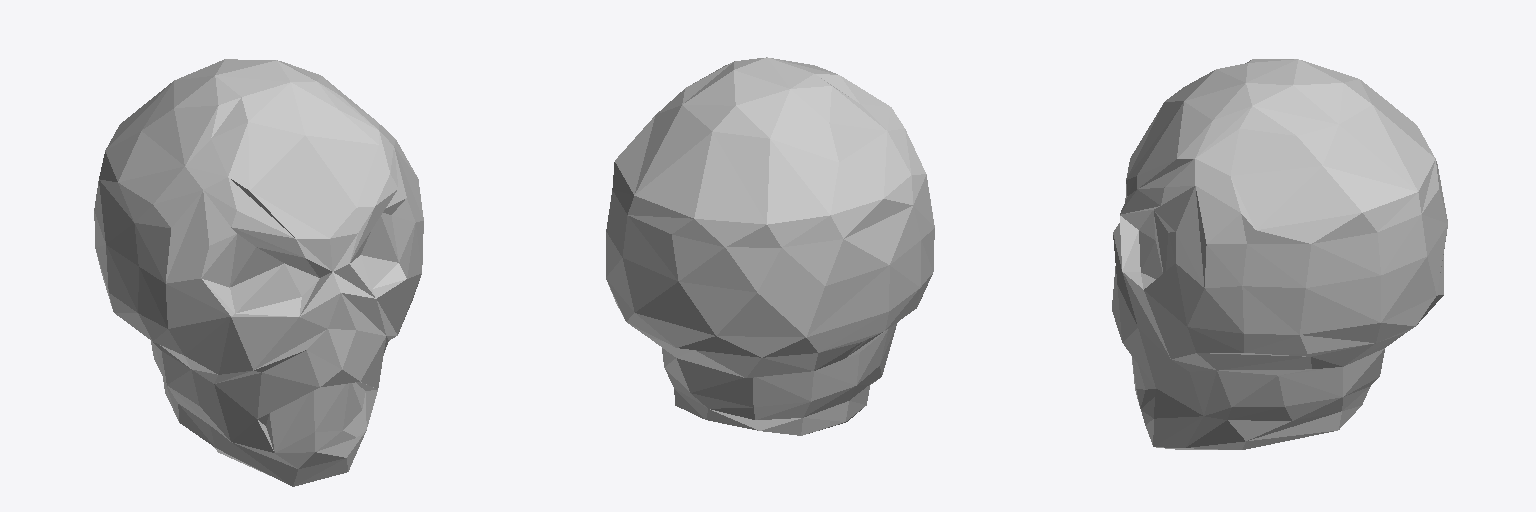
The picture shows the model from 3 angles: view 1: azimuth 30°, elevation 25°; view 2: azimuth 150°, elevation 25°; view 3: azimuth 270°, elevation 25°; orthographic projection.
Visible parts, largest first — view 1: ai_model; view 2: ai_model; view 3: ai_model.
Part boxes in pixels (bbox=[...]): ai_model: bbox=[94, 59, 423, 486]; ai_model: bbox=[606, 57, 934, 435]; ai_model: bbox=[1112, 59, 1447, 449].
Size of the model in its own units: 0.6689 by 0.8655 by 0.7172.